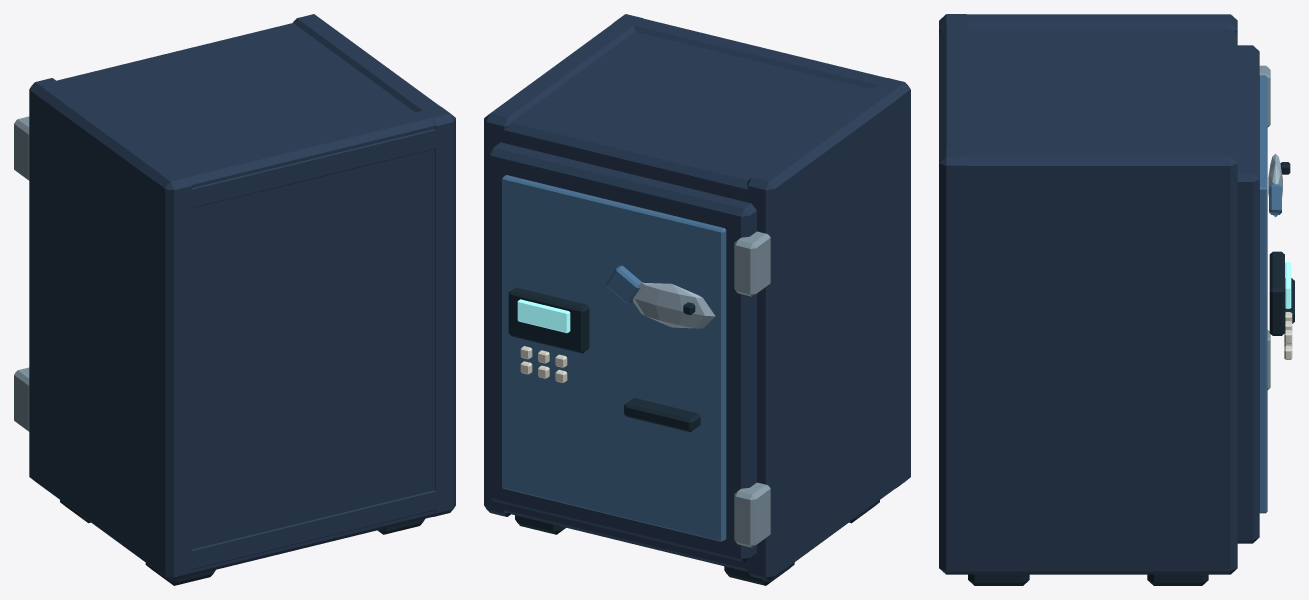
File: digital_safe.glb
The picture shows the model from 3 angles, left to right: view 1: azimuth 30°, elevation 25°; view 2: azimuth 150°, elevation 25°; view 3: azimuth 270°, elevation 25°; orthographic projection. The views are drawn at different scales.
Parts seen in each view (by area): view 1: back, left, top, right, bottom, hinge (×2); view 2: inset, left, top, door_panel, back, right, hinge (×2), bottom, display, whale_badge, handle, screen (+1 smaller); view 3: right, top, door_panel, back, left, inset, bottom, foot (×2), display.
Boxes of the visible parts, box(x1,y1,x2,y2) form: back: box(155, 107, 455, 580); left: box(29, 78, 192, 580); top: box(29, 23, 455, 212); right: box(293, 14, 455, 516); bottom: box(29, 455, 455, 573); hinge (×2): box(14, 116, 29, 431); inset: box(502, 175, 726, 541); left: box(746, 78, 910, 580); top: box(484, 31, 910, 212); door_panel: box(488, 142, 756, 562); back: box(614, 14, 910, 488); right: box(484, 14, 643, 516); hinge (×2): box(734, 231, 770, 547); bottom: box(484, 456, 910, 573); display: box(508, 287, 589, 353); whale_badge: box(632, 282, 715, 328); handle: box(624, 398, 700, 432); screen: box(517, 299, 570, 333); right: box(939, 147, 1237, 574); top: box(939, 29, 1237, 188); door_panel: box(1237, 45, 1259, 543); back: box(940, 14, 970, 574); left: box(939, 14, 1237, 33); inset: box(1259, 75, 1267, 513); bottom: box(939, 545, 1237, 566); foot (×2): box(968, 574, 1208, 585); display: box(1269, 251, 1284, 335).
Size of the model in its own units: 0.8 by 1.1 by 0.81.
